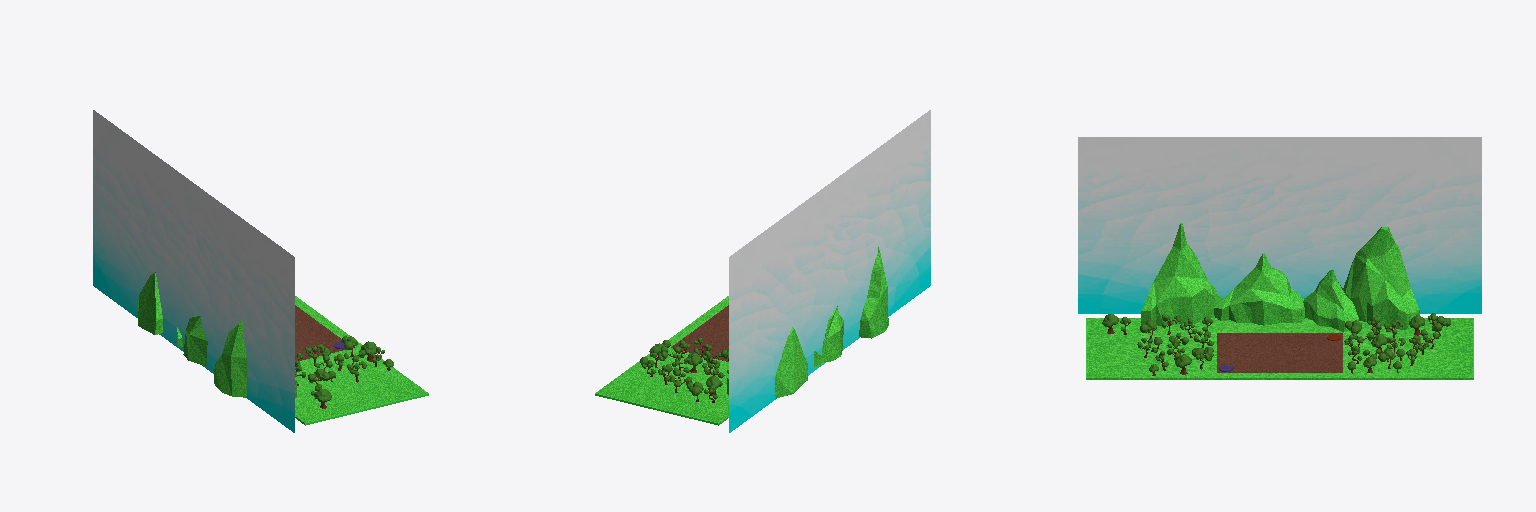
The picture shows the model from 3 angles: view 1: azimuth 30°, elevation 25°; view 2: azimuth 150°, elevation 25°; view 3: azimuth 270°, elevation 25°; orthographic projection.
Parts seen in each view (by area): view 1: pCube9, pCube1, pCube5, pCube8, pCube4, pCube2; view 2: pCube9, pCube1, pCube5, pCube4, pCube8, pCube2; view 3: pCube9, pCube1, pCube8, pCube4, pCube5, pCube2, pCube3.
Part boxes in pixels (x1,y1,x2,y2): pCube9: (93, 110, 294, 432); pCube1: (295, 296, 428, 425); pCube5: (214, 318, 297, 397); pCube8: (295, 305, 345, 360); pCube4: (138, 272, 162, 334); pCube2: (183, 316, 207, 365); pCube9: (729, 110, 930, 432); pCube1: (595, 296, 728, 425); pCube5: (859, 247, 888, 338); pCube4: (727, 327, 807, 398); pCube8: (671, 305, 728, 361); pCube2: (822, 305, 843, 362); pCube9: (1078, 137, 1481, 313); pCube1: (1086, 318, 1473, 379); pCube8: (1217, 333, 1342, 372); pCube4: (1343, 227, 1419, 329); pCube5: (1141, 223, 1223, 325); pCube2: (1214, 253, 1304, 325); pCube3: (1303, 269, 1358, 331).
Size of the model in its own units: 65.32 by 72.5 by 150.
19 materials, 3 textured.